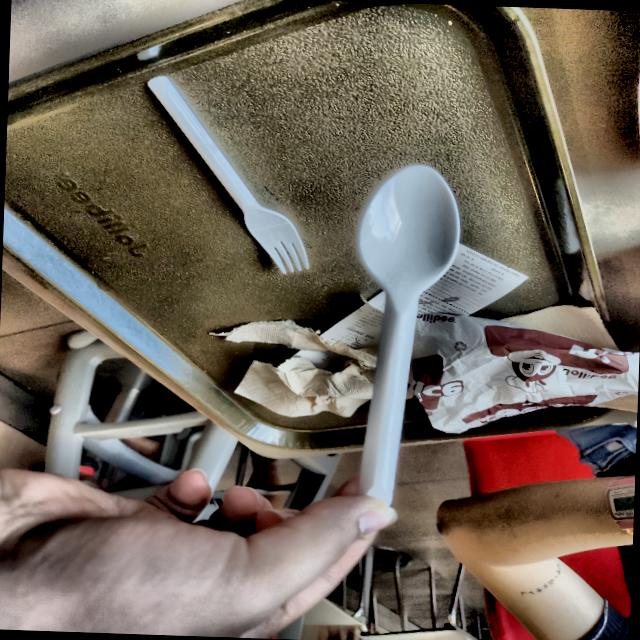plastic utensil: (358, 164, 460, 504), (148, 77, 309, 272)
